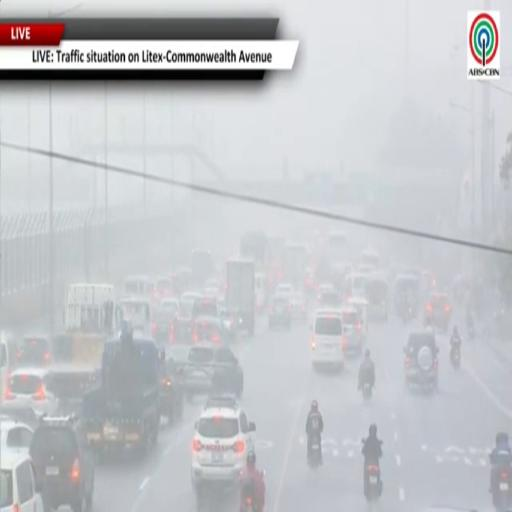car: (192, 395, 255, 504), (30, 416, 94, 511), (182, 343, 244, 398), (0, 450, 43, 511), (4, 368, 57, 415), (311, 309, 344, 371), (404, 331, 438, 390), (159, 354, 184, 424), (0, 415, 33, 453), (342, 304, 365, 355), (153, 298, 179, 343), (192, 316, 230, 345), (424, 293, 451, 332), (18, 336, 51, 367), (0, 403, 38, 429), (268, 294, 291, 329), (191, 295, 219, 319), (169, 315, 192, 344), (180, 292, 201, 317), (290, 292, 308, 321), (318, 290, 342, 308), (317, 283, 336, 300), (275, 283, 293, 296), (357, 264, 376, 276)
motorcycle: (492, 468, 511, 511), (364, 461, 383, 501), (365, 463, 382, 501), (308, 434, 321, 468), (450, 345, 460, 370), (402, 304, 413, 325), (362, 381, 372, 402), (468, 325, 475, 340), (262, 471, 265, 478)
truck: (82, 332, 164, 458), (48, 283, 119, 413), (225, 259, 255, 337), (240, 231, 268, 271)
